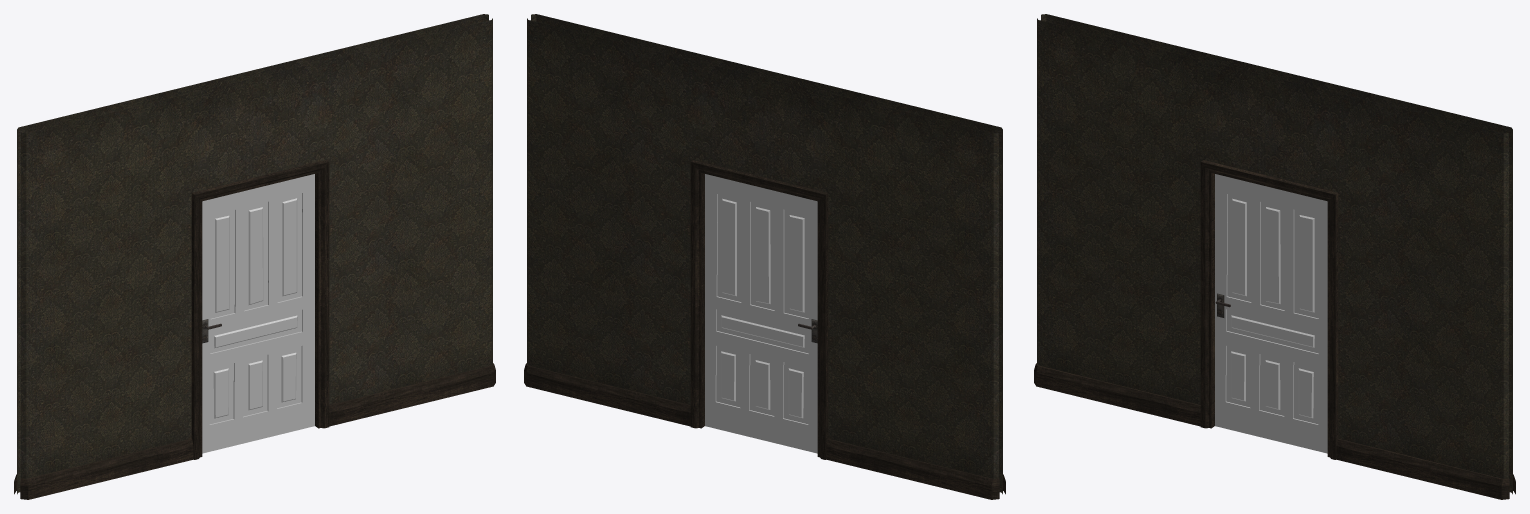
The model's file is doorway_2.fbx.
3 views of the same model, side by side, from view 1: azimuth 30°, elevation 25°; view 2: azimuth 150°, elevation 25°; view 3: azimuth 330°, elevation 25° (orthographic).
Visible parts, largest first — view 1: doorway_2, door_2; view 2: doorway_2, door_2; view 3: doorway_2, door_2.
Part boxes in pixels (bbox=[...]): doorway_2: bbox=[14, 14, 495, 499]; door_2: bbox=[202, 174, 314, 453]; doorway_2: bbox=[524, 14, 1005, 499]; door_2: bbox=[705, 174, 817, 453]; doorway_2: bbox=[1034, 14, 1515, 499]; door_2: bbox=[1215, 174, 1327, 453].
Bounding box in the file's own units: 4.09 × 0.2 × 3.
